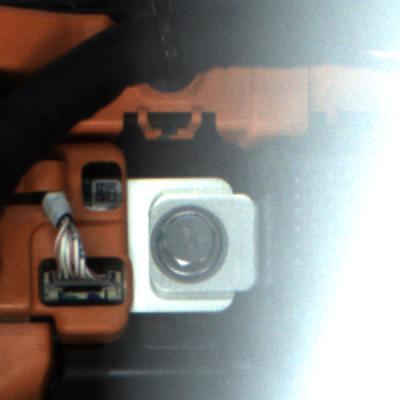nut_b: (147, 203, 230, 290)
